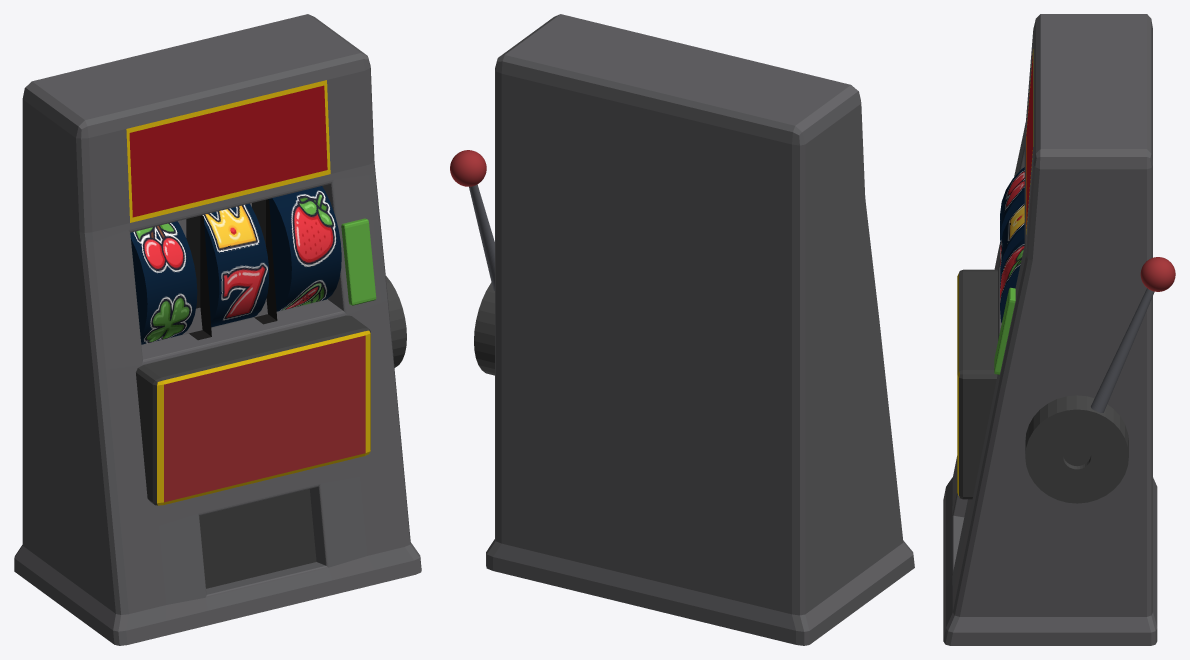
The model's file is slot.fbx.
The picture shows the model from 3 angles, left to right: view 1: azimuth 30°, elevation 25°; view 2: azimuth 150°, elevation 25°; view 3: azimuth 270°, elevation 25°; orthographic projection. The views are drawn at different scales.
Visible parts, largest first — view 1: main, Cylinder.001, Cylinder, Cylinder.002, handle; view 2: main, handle; view 3: main, handle, Cylinder, Cylinder.002, Cylinder.001.
Boxes of the visible parts, x1,y1,x2,y2 form: main: [14, 14, 421, 645]; Cylinder.001: [268, 186, 341, 311]; Cylinder: [202, 203, 268, 327]; Cylinder.002: [130, 221, 197, 344]; handle: [386, 276, 406, 367]; main: [486, 14, 914, 645]; handle: [450, 150, 494, 375]; main: [943, 14, 1157, 645]; handle: [1025, 257, 1175, 503]; Cylinder: [1000, 202, 1024, 280]; Cylinder.002: [1000, 167, 1024, 243]; Cylinder.001: [1000, 238, 1024, 322].
Size of the model in its own units: 152 by 212 by 91.08.
